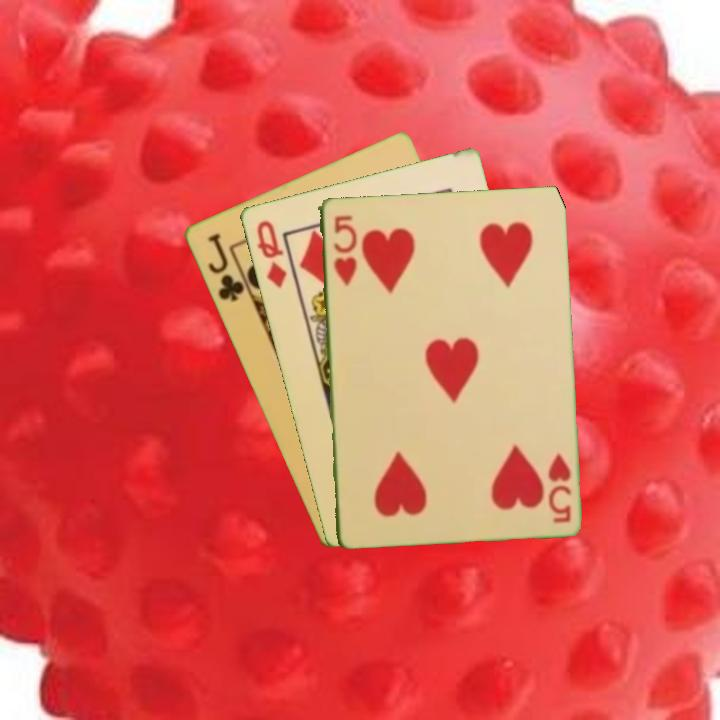5h: (329, 211, 359, 288), (544, 450, 573, 525)
Jc: (204, 229, 247, 305)
Qd: (252, 216, 289, 291)
